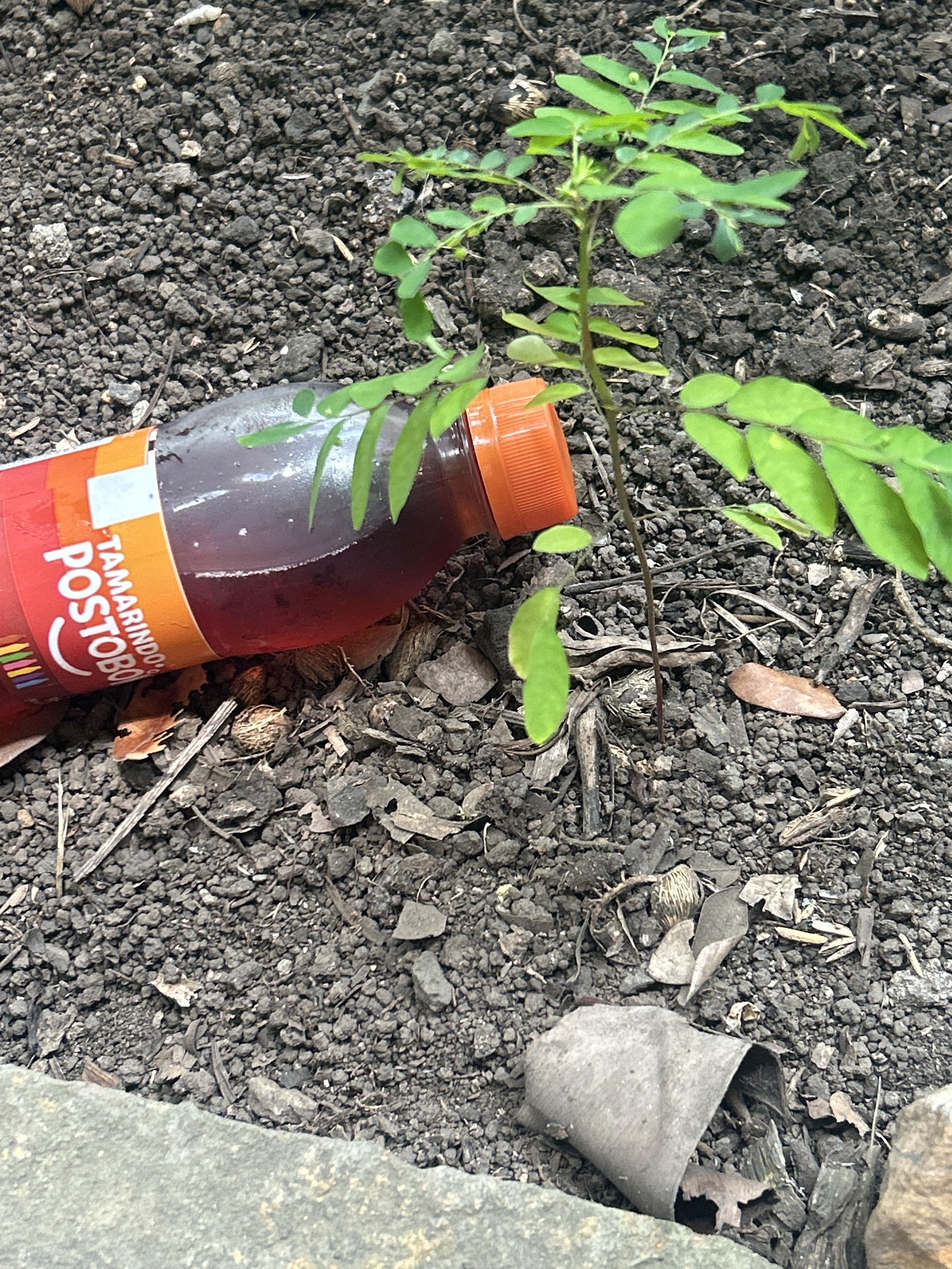tamarindo: (0, 380, 577, 713)
